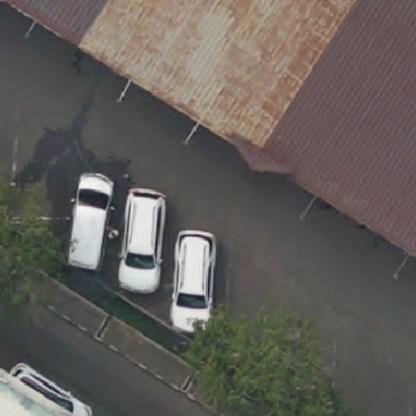car: (117, 187, 169, 298), (170, 229, 219, 339), (67, 172, 112, 272)
